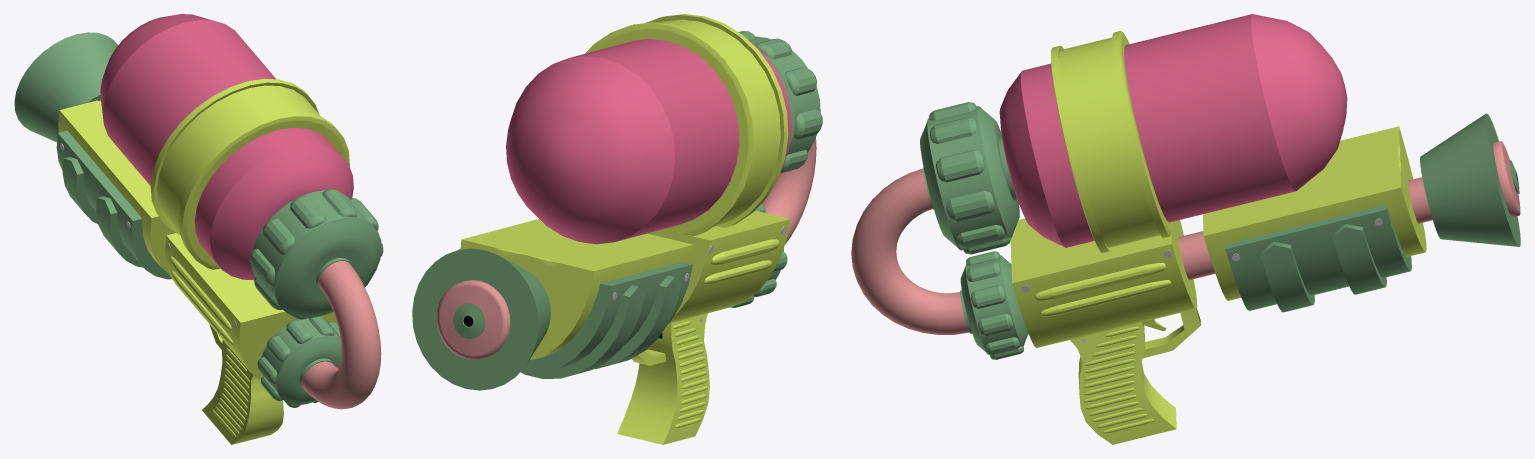
Rendered from toy_gun2.glb.
The picture shows the model from 3 angles, left to right: view 1: azimuth 30°, elevation 25°; view 2: azimuth 150°, elevation 25°; view 3: azimuth 270°, elevation 25°; orthographic projection. The views are drawn at different scales.
Visible parts, largest first — view 1: Bottle, Lock, Ring, Barrel_1, Chimney, Body_1, Body_2, Grip, Body_3, Ring.001, S2, S1 (+8 smaller); view 2: Bottle, Chimney, Lock, Body_2, Grip, Body_1, Body_3, S1, Barrel_1, S2, Ring, S4 (+4 smaller); view 3: Bottle, Lock, Body_1, Body_2, Chimney, Barrel_1, Body_3, Ring, Grip, Ring.001, S2, S1 (+8 smaller).
Boxes of the visible parts, <box> form: Bottle: <box>100,14,353,280</box>; Lock: <box>150,78,349,269</box>; Ring: <box>251,190,381,318</box>; Barrel_1: <box>302,261,381,409</box>; Chimney: <box>14,32,117,142</box>; Body_1: <box>165,233,337,379</box>; Body_2: <box>58,100,175,273</box>; Grip: <box>202,340,283,444</box>; Body_3: <box>56,130,171,279</box>; Ring.001: <box>261,318,341,404</box>; S2: <box>96,196,143,267</box>; S1: <box>62,157,97,223</box>; Bottle: <box>506,39,791,244</box>; Chimney: <box>412,248,550,390</box>; Lock: <box>585,14,788,235</box>; Body_2: <box>460,219,693,359</box>; Grip: <box>617,313,709,444</box>; Body_1: <box>647,210,790,323</box>; Body_3: <box>458,249,692,372</box>; S1: <box>520,285,644,378</box>; Barrel_1: <box>762,138,816,244</box>; S2: <box>594,275,681,368</box>; Ring: <box>748,36,820,155</box>; S4: <box>711,239,779,265</box>; Bottle: <box>999,14,1347,247</box>; Lock: <box>1050,31,1171,252</box>; Body_1: <box>1010,218,1197,347</box>; Body_2: <box>1203,126,1426,300</box>; Chimney: <box>1407,113,1520,246</box>; Barrel_1: <box>851,168,969,334</box>; Body_3: <box>1225,204,1411,310</box>; Ring: <box>920,106,1019,250</box>; Grip: <box>1070,322,1176,444</box>; Ring.001: <box>960,255,1028,353</box>; S2: <box>1260,241,1314,312</box>; S1: <box>1332,224,1386,294</box>.
Bounding box in the file's own units: 0.4243 × 0.9034 × 1.34.
